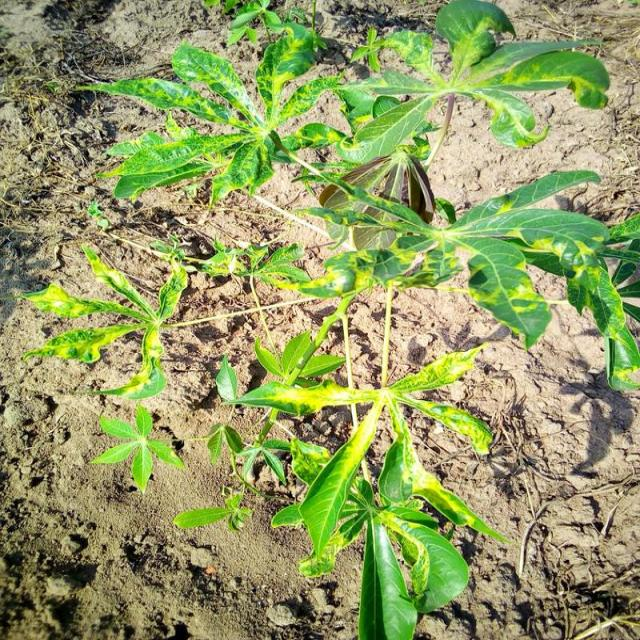cassava leaf: (18, 1, 640, 637)
